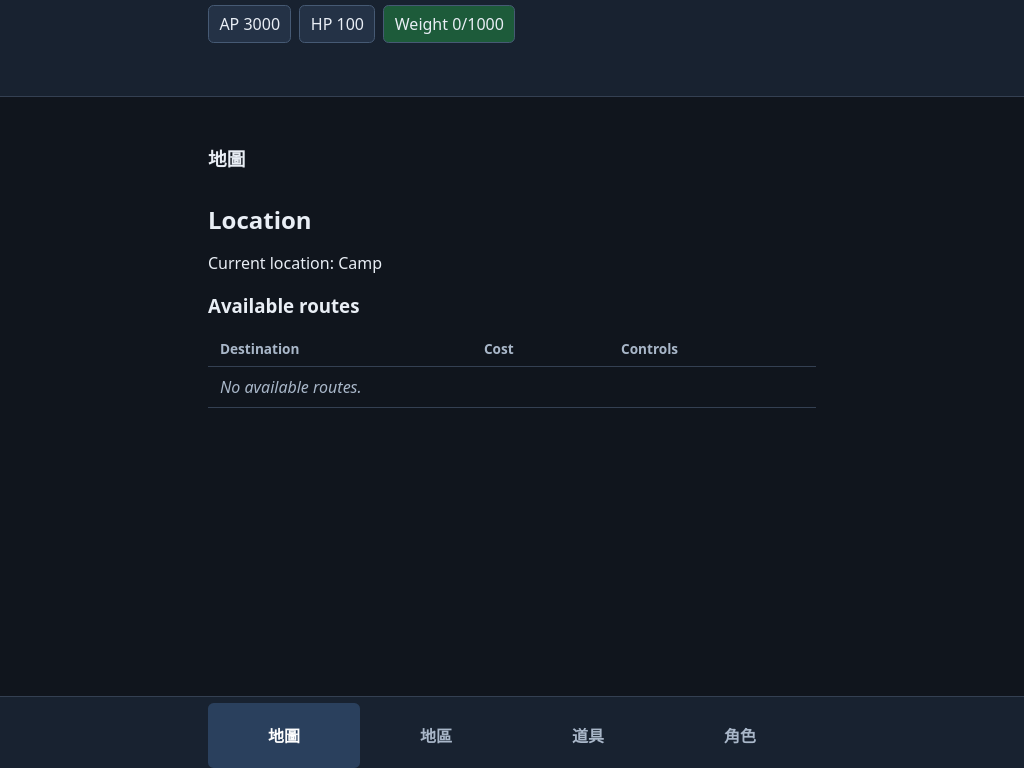
Test: App gameplay tab integration › never reconstructs gameplay controls when global availability omits them
Expected: the heading "地圖" is shown, [208,146,245,171]
Expected: the table "available routes" shows "No available routes.", [220,376,362,398]
Click the button "地區". click: coordinates (436, 735)
box: [360,703,512,767]
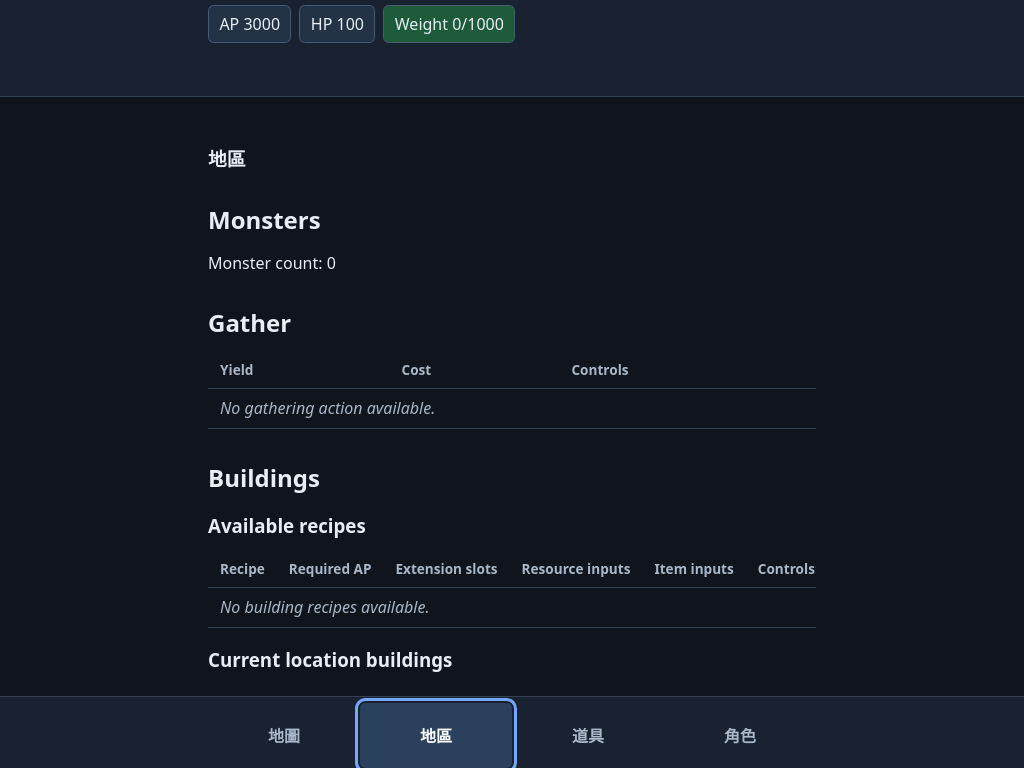
Now the heading "地區" is shown, box [208,146,245,171]
Now the table "gather" shows "No gathering action available.", box [220,397,435,419]
Now the table named "Building recipes" shows "No building recipes available.", box [220,596,430,618]
Click the button "道具". click: coordinates (588, 735)
box: [512,703,664,767]
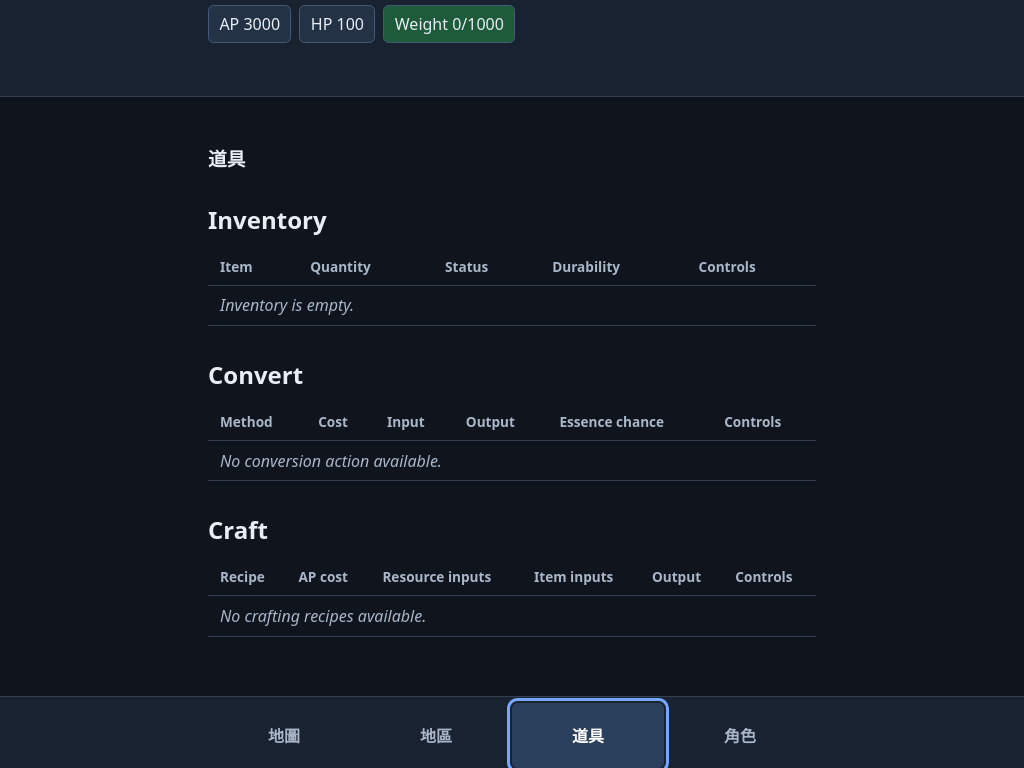
Now the heading "道具" is shown, box [208,146,245,171]
Now the table named "Convert" shows "No conversion action available.", box [220,450,442,472]
Now the table "craft" shows "No crafting recipes available.", box [220,605,426,627]
Click the button "角色". click: coordinates (740, 735)
box: [664,703,816,767]
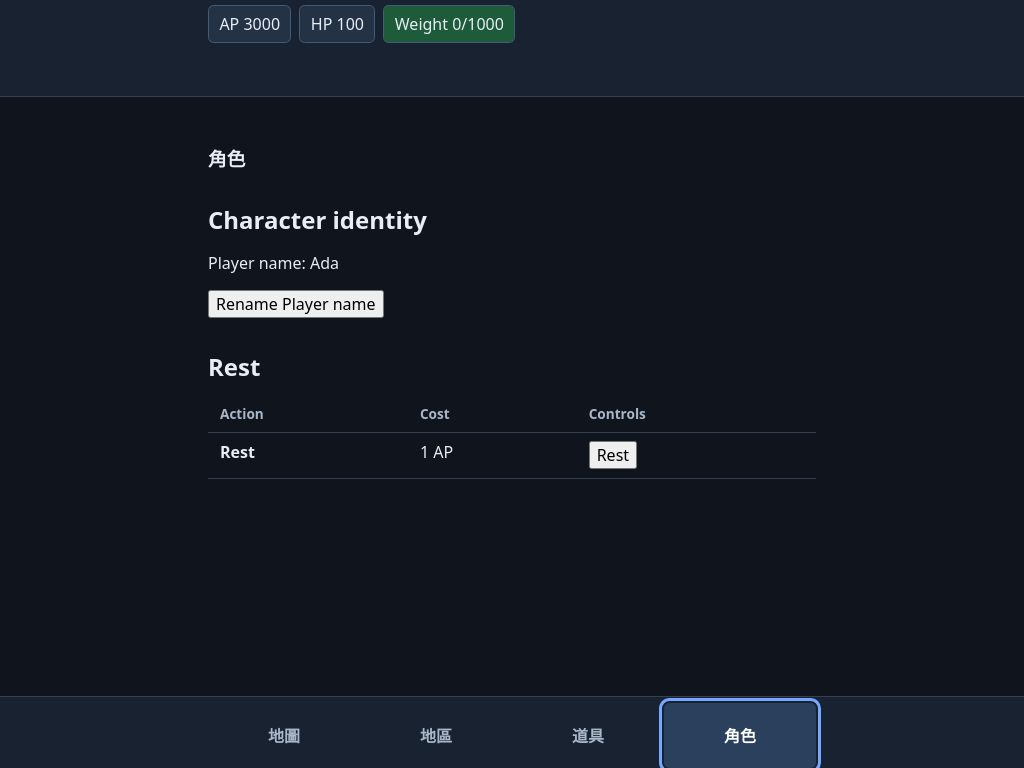
Now the heading "角色" is shown, box [208,146,245,171]
Now the button "Rest" is enabled, box [589,441,637,469]
